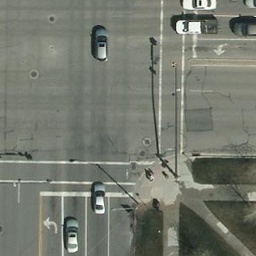car: (173, 18, 219, 34), (94, 28, 110, 64), (92, 181, 106, 213), (65, 218, 78, 250), (184, 1, 216, 10)
